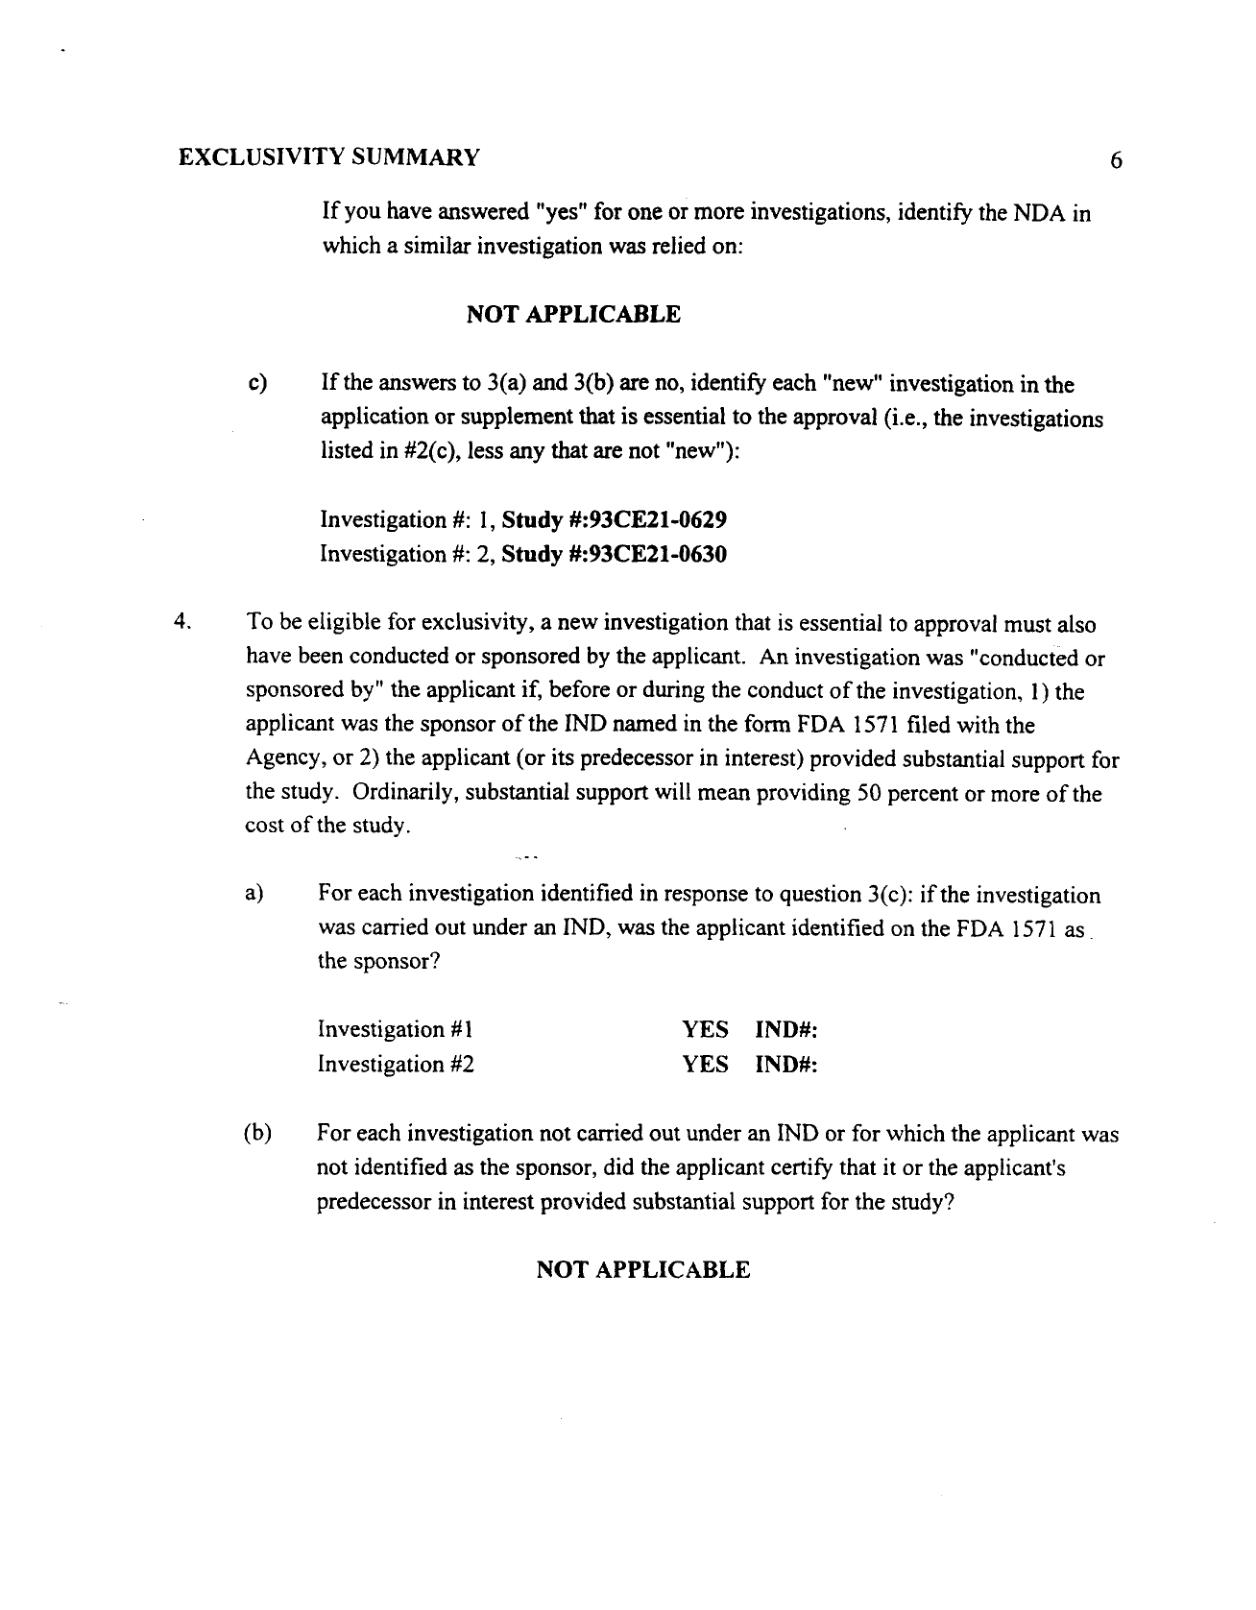nolines: (311, 1011, 823, 1079), (316, 503, 731, 566)
